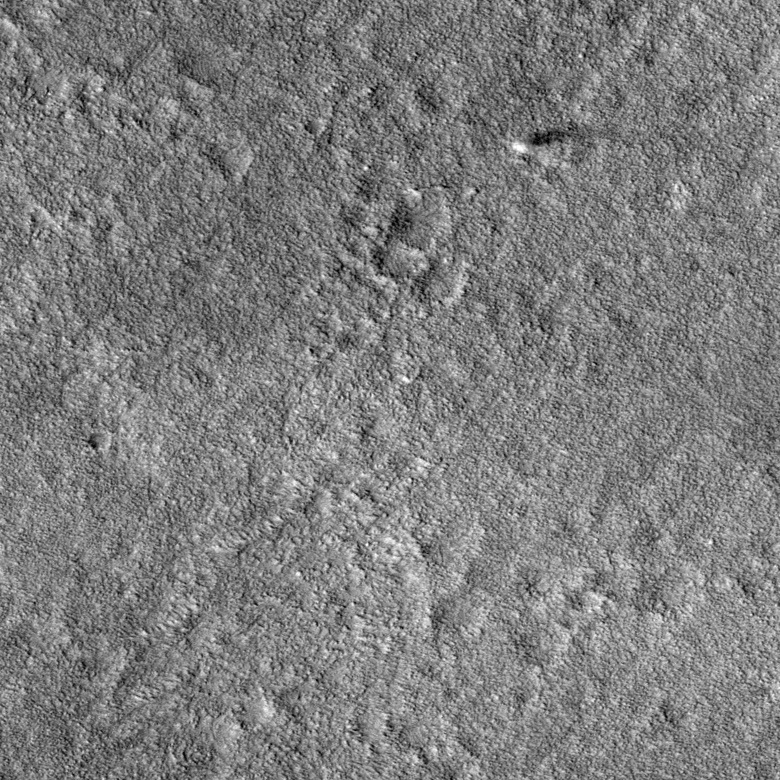dust_devil: (511, 126, 572, 155)
